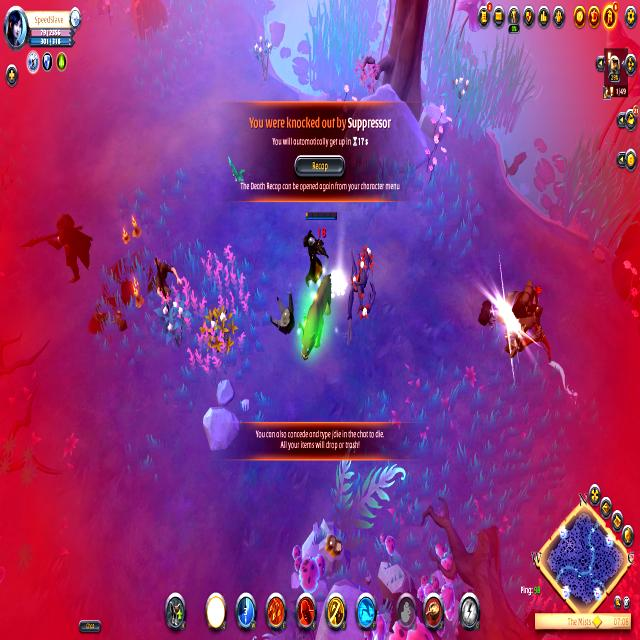hide: (197, 295, 238, 365), (159, 294, 192, 358), (248, 31, 279, 89)
ore: (16, 206, 100, 286), (488, 270, 554, 368), (297, 266, 336, 370), (342, 235, 378, 347), (150, 249, 180, 312)
player: (317, 523, 347, 568)
red: (300, 206, 338, 282)
stone: (332, 269, 346, 298)
tree: (124, 0, 173, 42)
